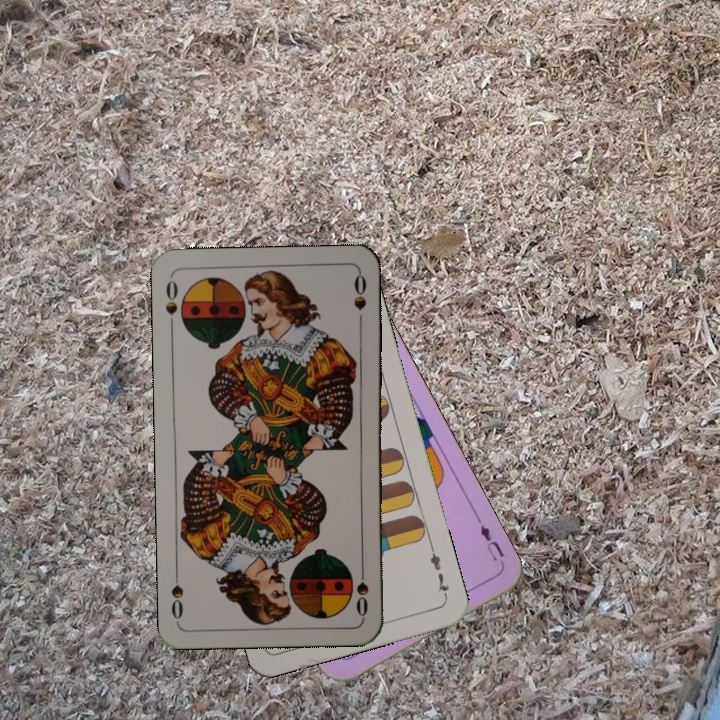E7: (426, 543, 452, 601)
EU: (473, 515, 507, 570)
SO: (352, 560, 371, 619), (161, 274, 180, 333)
